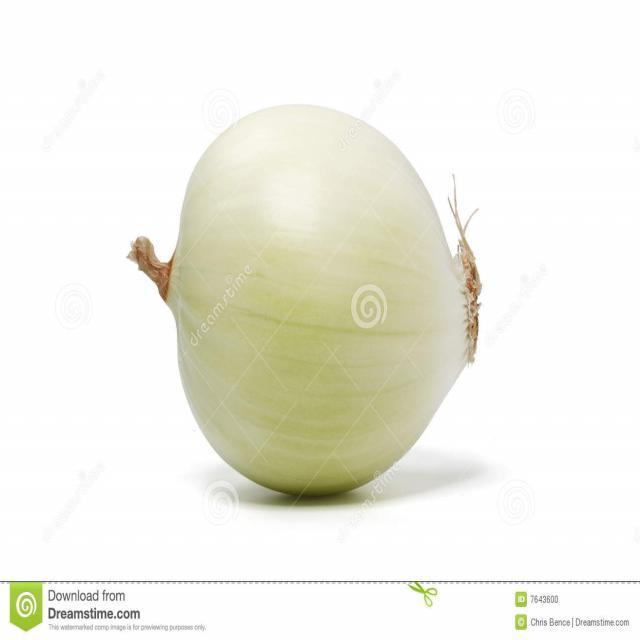onion: (139, 105, 481, 502)
